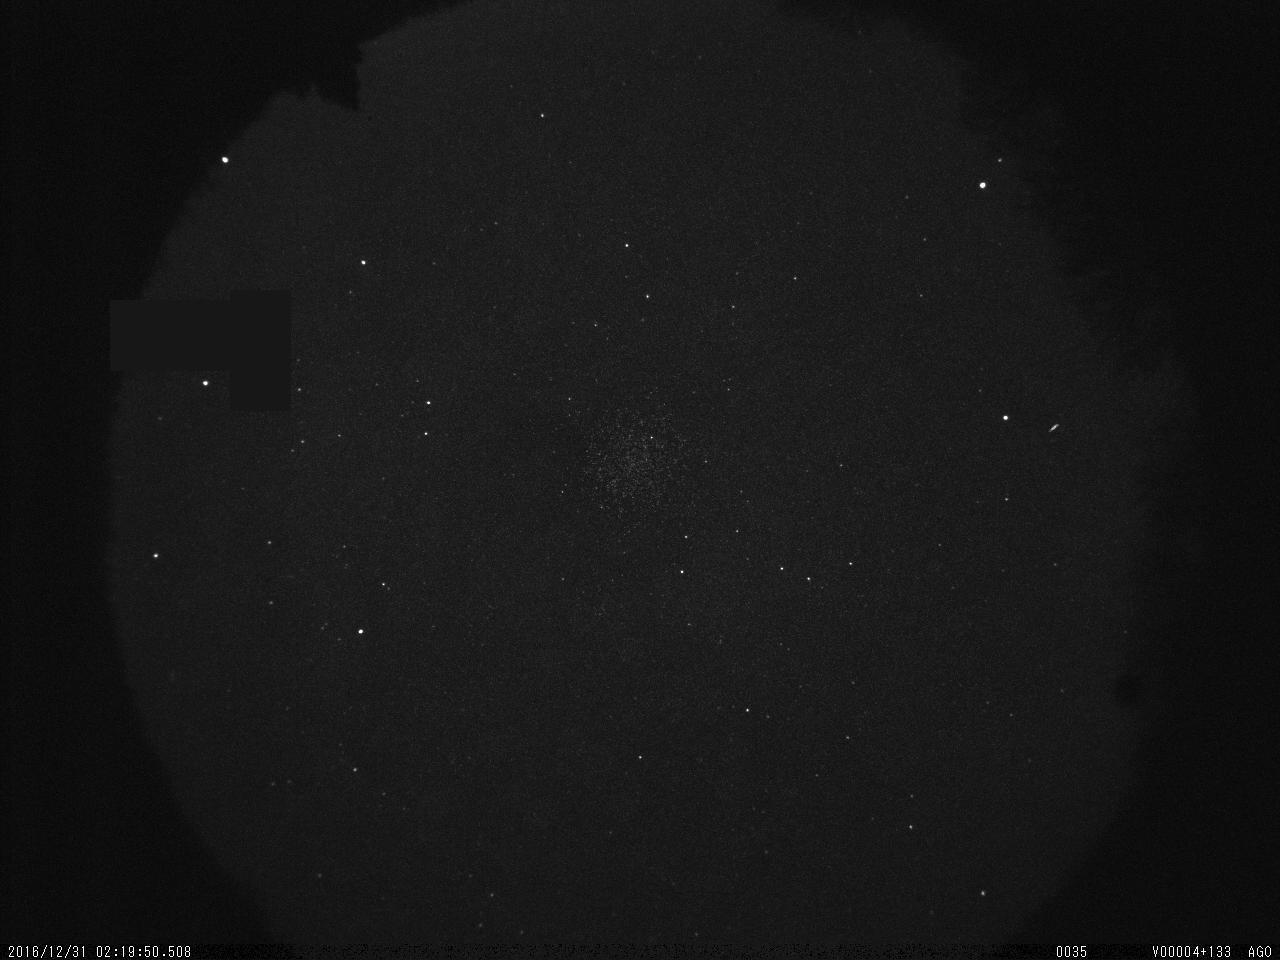meteor: (1044, 419, 1067, 441)
